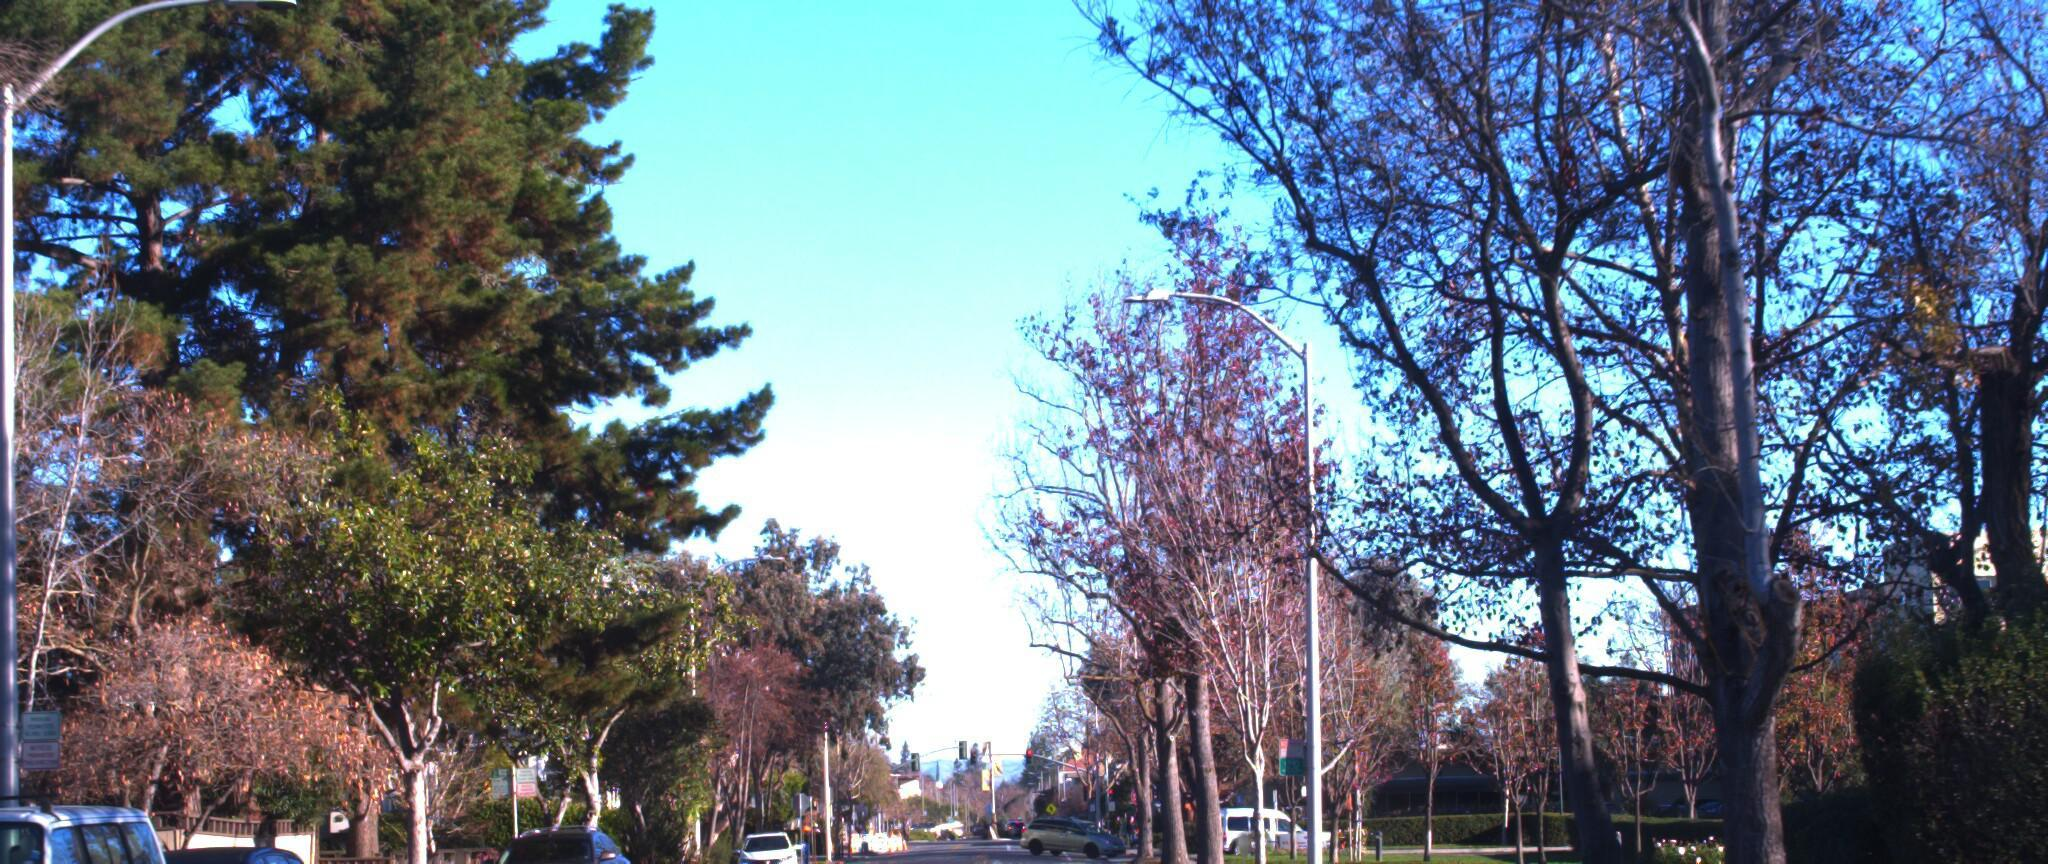car: (0, 758, 196, 864), (0, 809, 353, 864), (458, 799, 647, 864)
